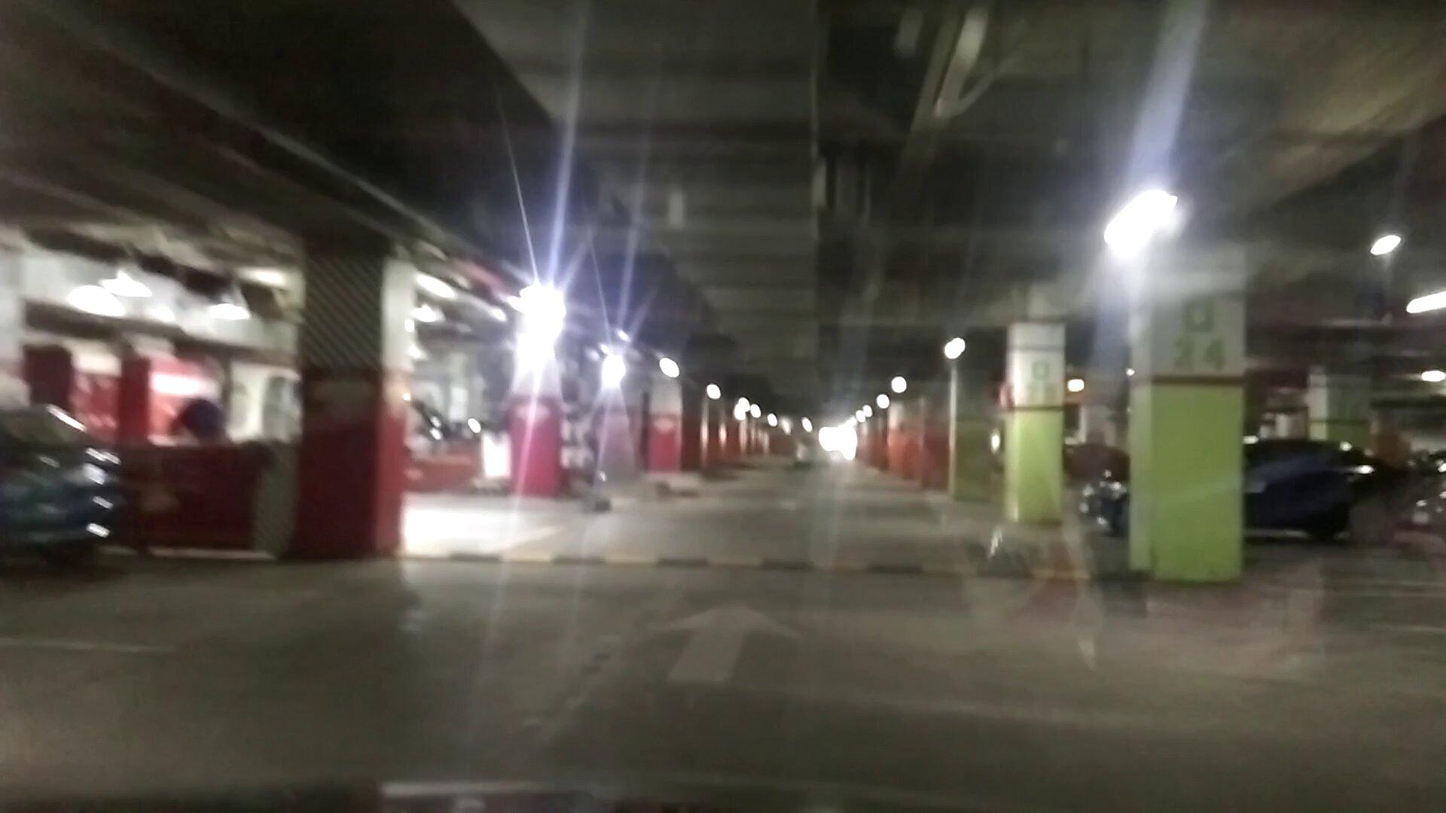Bump: (399, 542, 1132, 587)
